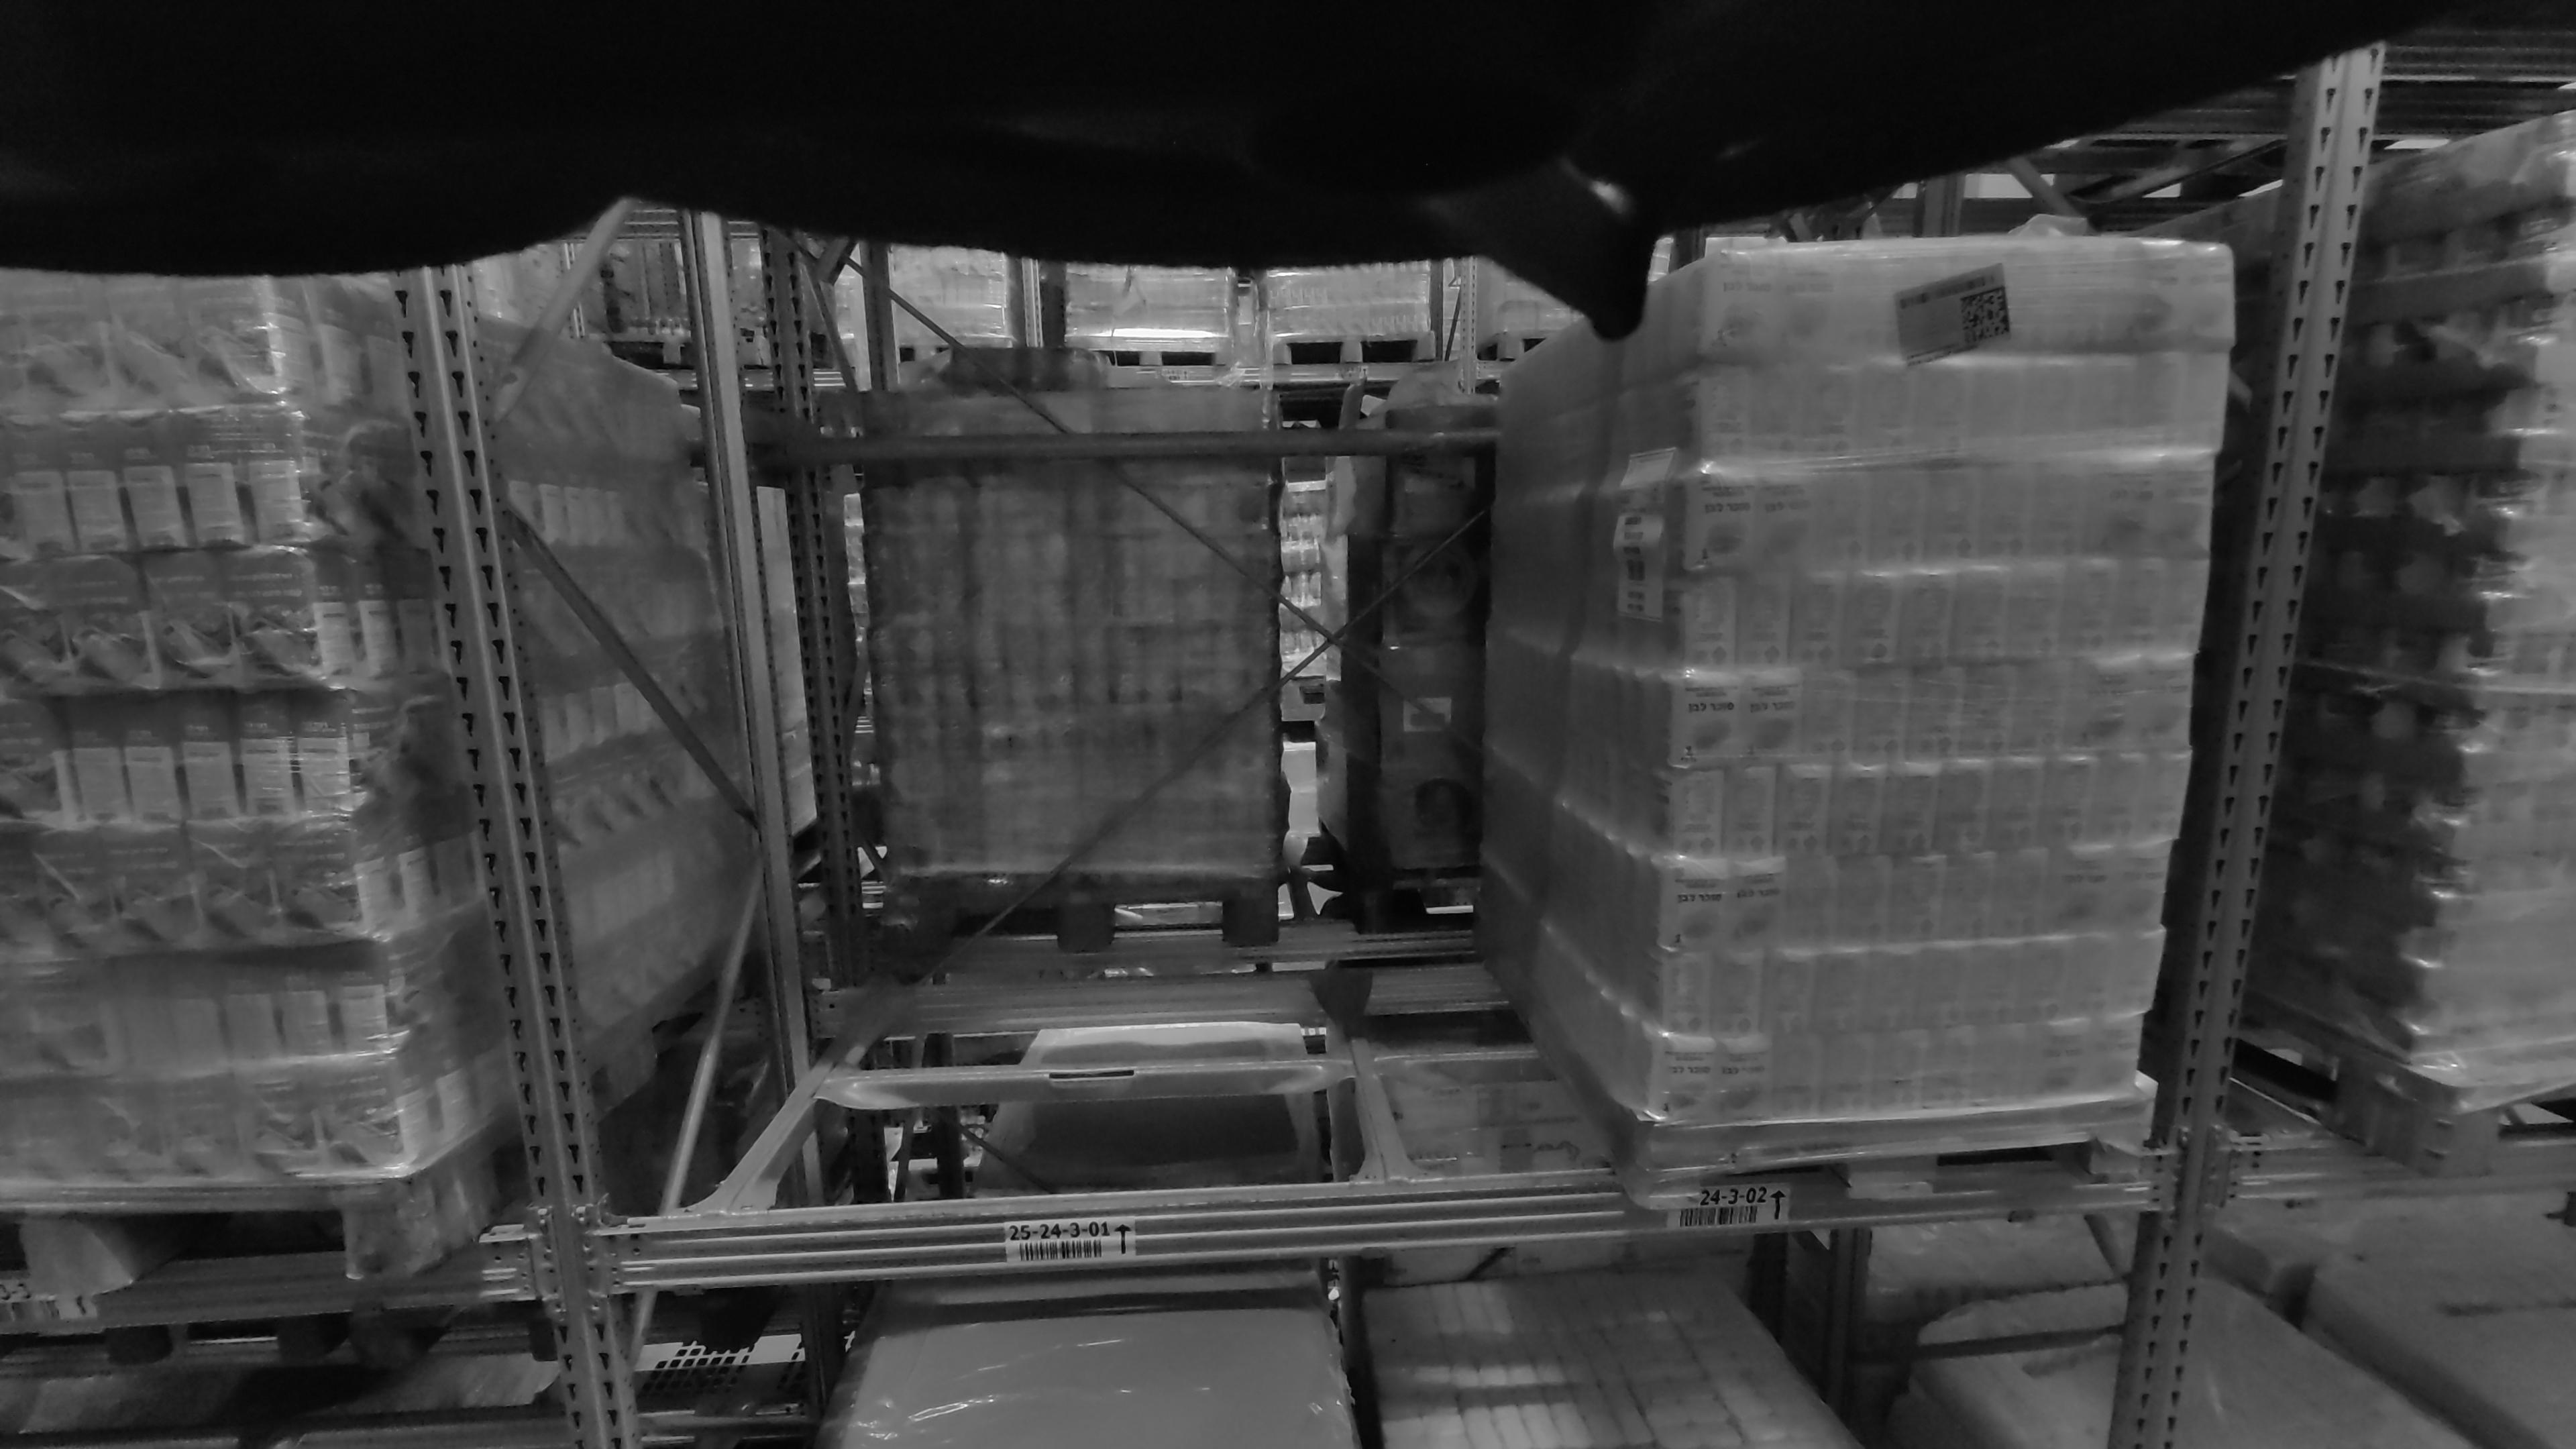empty-shelf: (745, 237, 1415, 1205)
